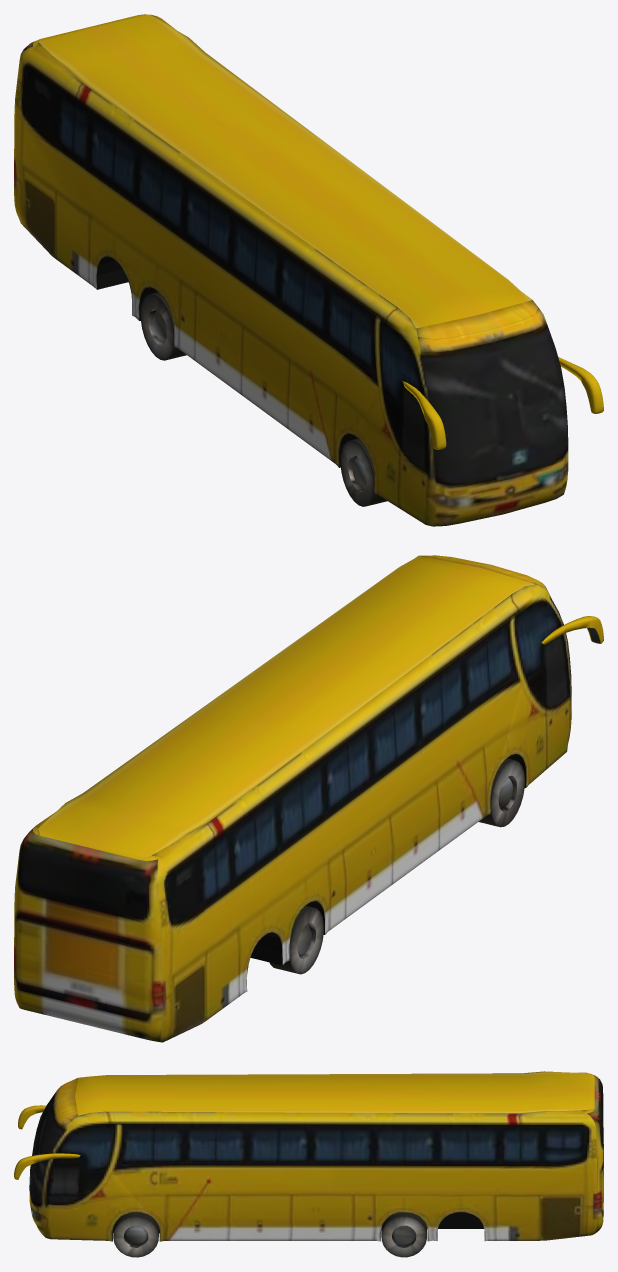
Rendered from n_bus2.glb.
The picture shows the model from 3 angles, top to bottom: view 1: azimuth 30°, elevation 25°; view 2: azimuth 150°, elevation 25°; view 3: azimuth 270°, elevation 25°; orthographic projection. The views are drawn at different scales.
Parts seen in each view (by area): view 1: Bus_g8_0, wheel_fr, wheel_rr; view 2: Bus_g8_0, wheel_rr, wheel_fr; view 3: Bus_g8_0, wheel_fl, wheel_rl, wheel_rl_1, wheel_fl_1.
Boxes of the visible parts, x1,y1,x2,y2 form: Bus_g8_0: [14, 14, 603, 526]; wheel_fr: [340, 438, 387, 506]; wheel_rr: [140, 292, 186, 360]; Bus_g8_0: [14, 555, 603, 1042]; wheel_rr: [269, 905, 323, 974]; wheel_fr: [479, 758, 524, 827]; Bus_g8_0: [14, 1071, 603, 1241]; wheel_fl: [113, 1212, 158, 1257]; wheel_rl: [381, 1212, 426, 1257]; wheel_rl_1: [392, 1225, 416, 1247]; wheel_fl_1: [123, 1225, 148, 1247].
Size of the model in its own units: 2.53 by 3.1 by 11.69.
2 materials, 1 textured.
